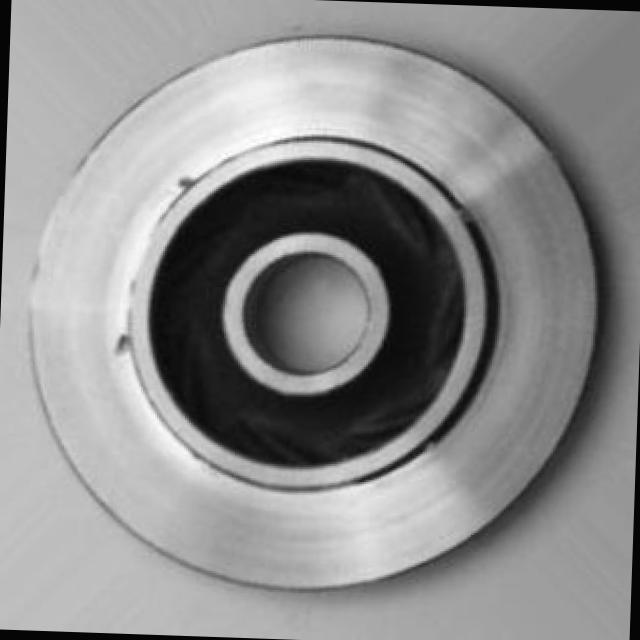Defect: (100, 308, 139, 362), (162, 162, 212, 196)
